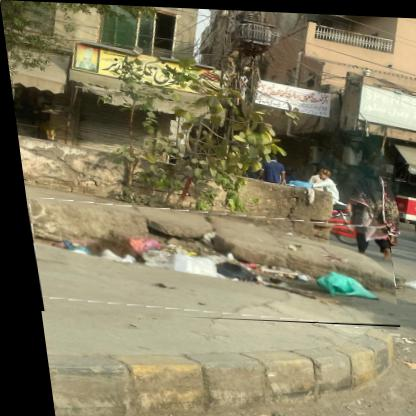Garbage: (22, 203, 394, 326)
